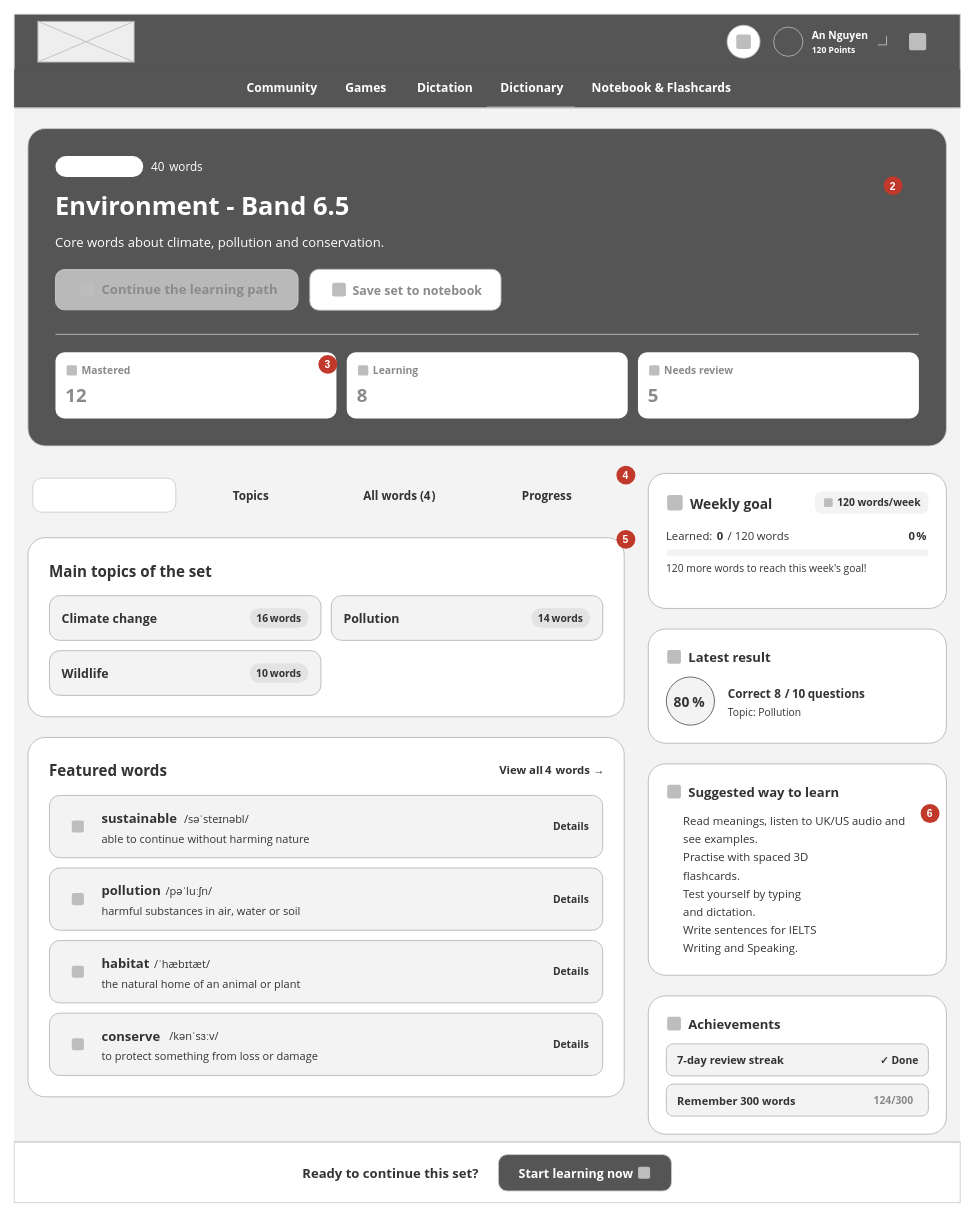
Image size: 974x1217. Some labels were removed from this diagram. Here are the shapes that lost their labels. From the top down, the centre of each, then its label:
pixel 788 41: AN
pixel 99 166: BAND 6.0–6.5
pixel 104 494: Overview
